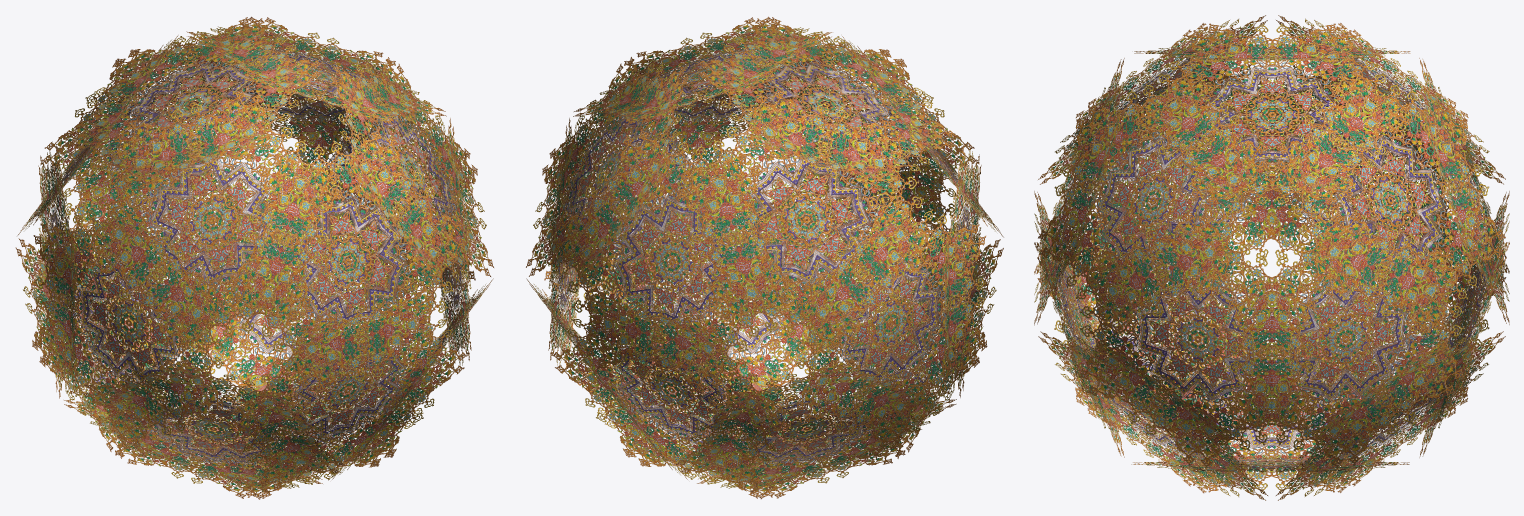
Rendered from SmallDodecicosahedron6.gltf.
3 renders of one model, left to right at view 1: azimuth 30°, elevation 25°; view 2: azimuth 150°, elevation 25°; view 3: azimuth 270°, elevation 25°, orthographic. The views are drawn at different scales.
Visible parts, largest first — view 1: SmallDodecicosahedron; view 2: SmallDodecicosahedron; view 3: SmallDodecicosahedron.
Boxes of the visible parts, box(x1,y1,x2,y2) form: SmallDodecicosahedron: box(15, 16, 493, 499); SmallDodecicosahedron: box(526, 16, 1003, 499); SmallDodecicosahedron: box(1034, 15, 1509, 500).
Size of the model in its own units: 3.24 by 3.24 by 3.24.
Materials: 1 (1 with a texture image).
